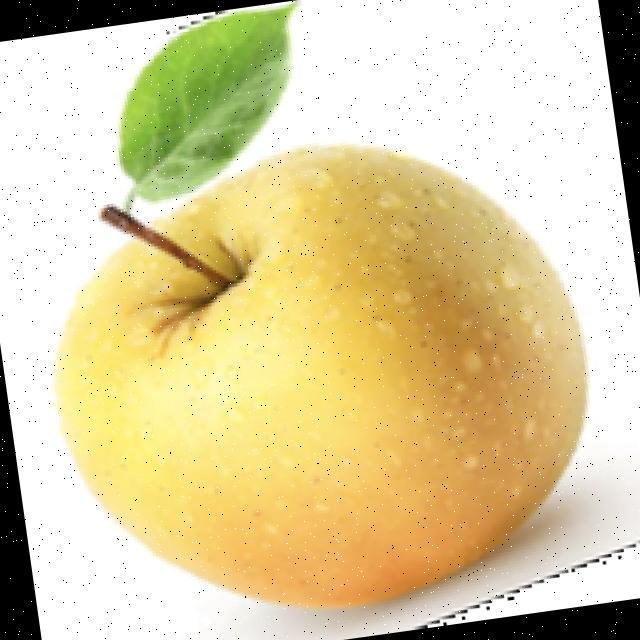apple: (48, 0, 640, 640)
